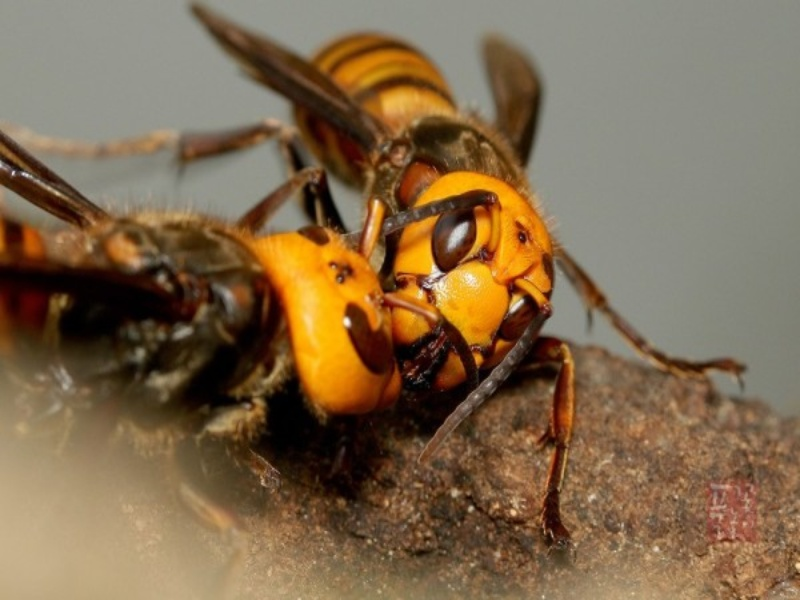asian_giant_hornet: (1, 196, 400, 507), (285, 28, 576, 411)
